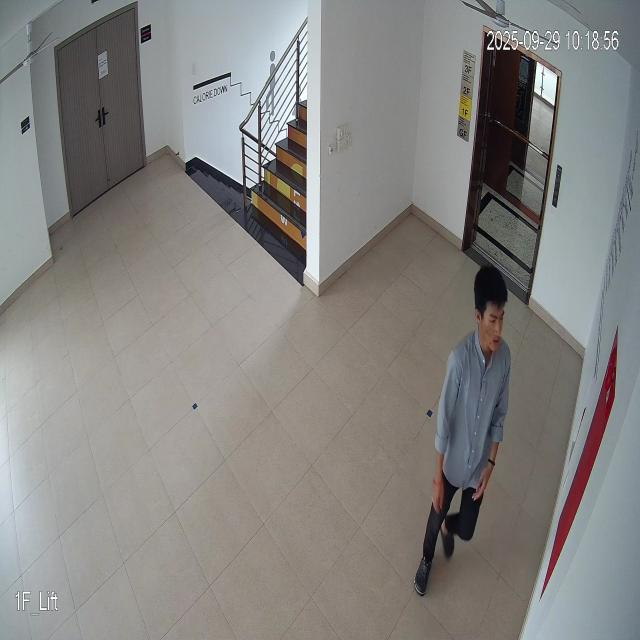face: (474, 267, 510, 359)
